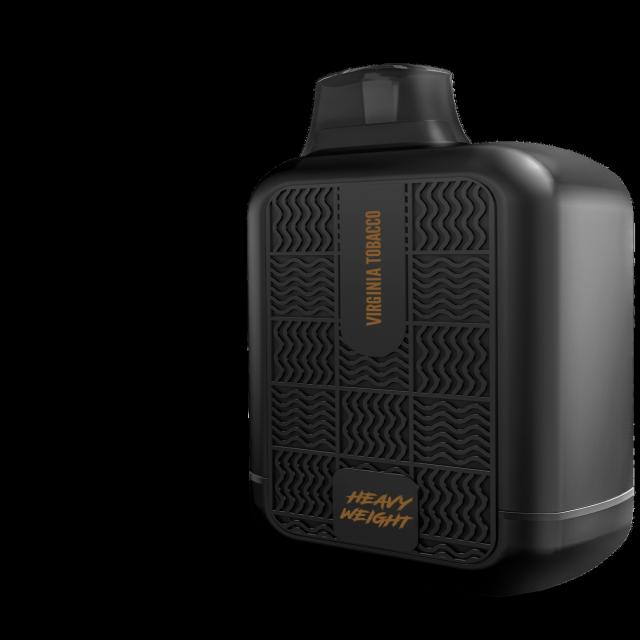Vape-images: (245, 62, 635, 596)
